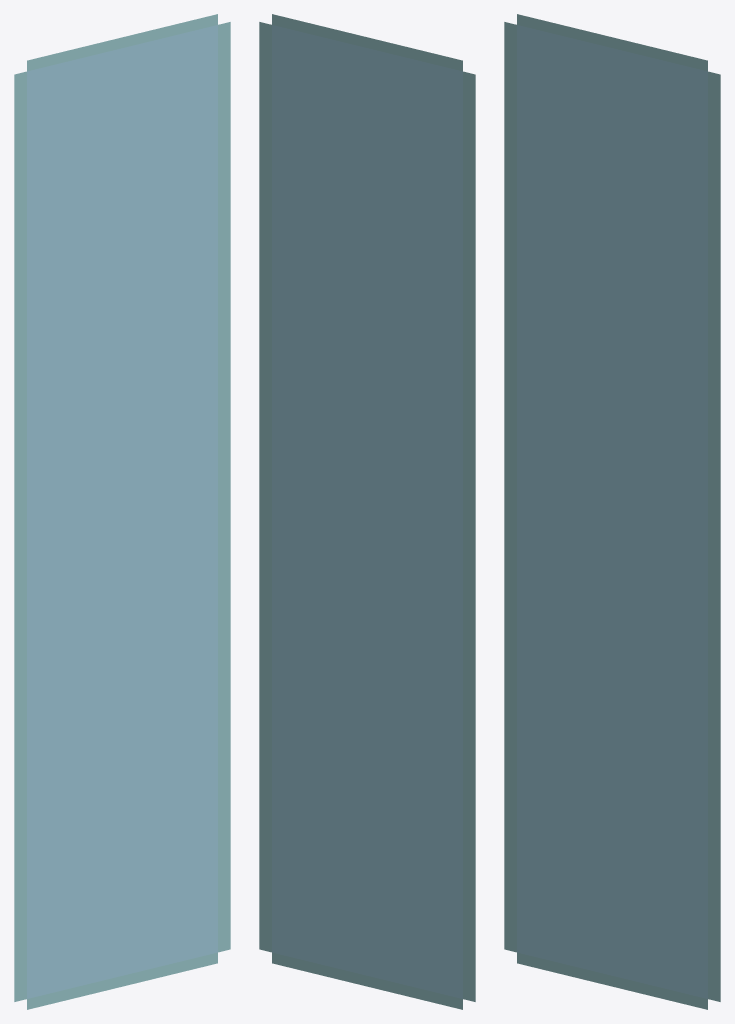
The picture shows the model from 3 angles, left to right: view 1: azimuth 30°, elevation 25°; view 2: azimuth 150°, elevation 25°; view 3: azimuth 330°, elevation 25°; orthographic projection.
Parts seen in each view (by area): view 1: Object107; view 2: Object107; view 3: Object107.
Boxes of the visible parts, box(x1,y1,x2,y2) form: Object107: box(14, 14, 230, 1009); Object107: box(259, 14, 475, 1009); Object107: box(504, 14, 720, 1009).
Bounding box in the file's own units: 16120 × 67666 × 0.014.
